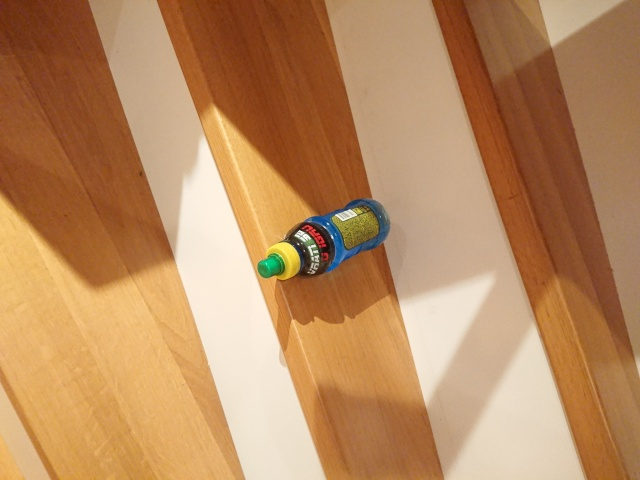Vindi Iso Sport Forest Strawberries 500mL: (256, 196, 392, 283)
